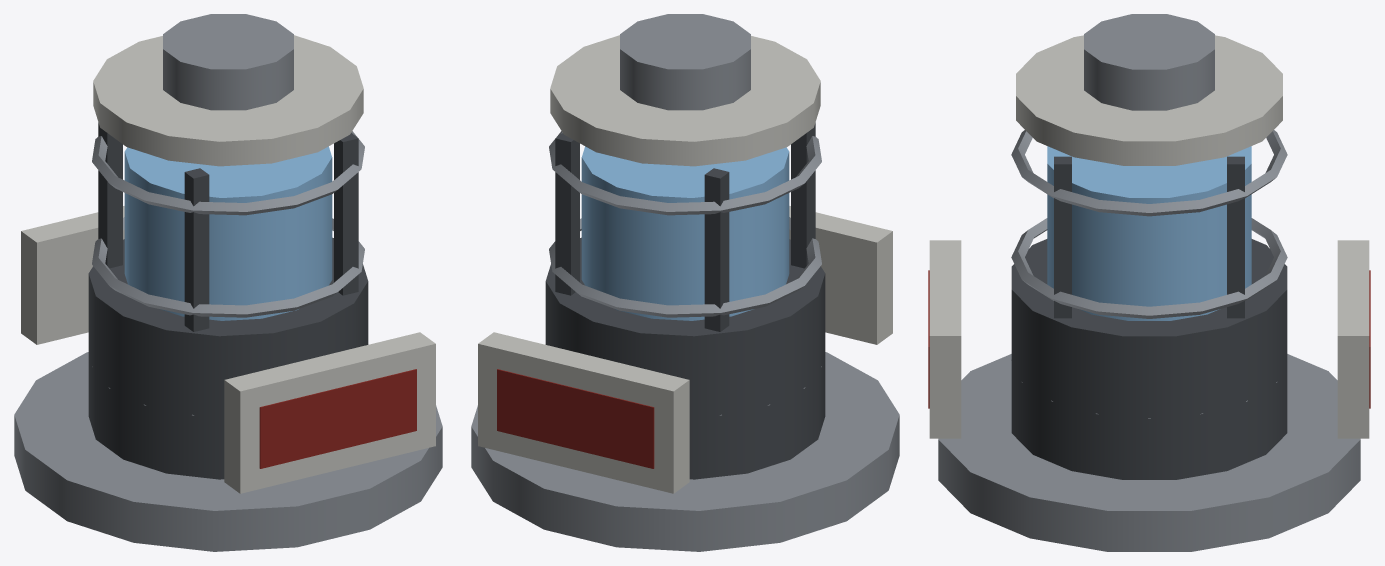
File: republic_reactor.glb
The picture shows the model from 3 angles, left to right: view 1: azimuth 30°, elevation 25°; view 2: azimuth 150°, elevation 25°; view 3: azimuth 270°, elevation 25°; orthographic projection.
Visible parts, largest first — view 1: republic_reactor; view 2: republic_reactor; view 3: republic_reactor.
Boxes of the visible parts, box(x1,y1,x2,y2) form: republic_reactor: box(14, 14, 442, 551); republic_reactor: box(471, 14, 899, 551); republic_reactor: box(928, 14, 1370, 551).
Size of the model in its own units: 1.86 by 2.05 by 1.95.
